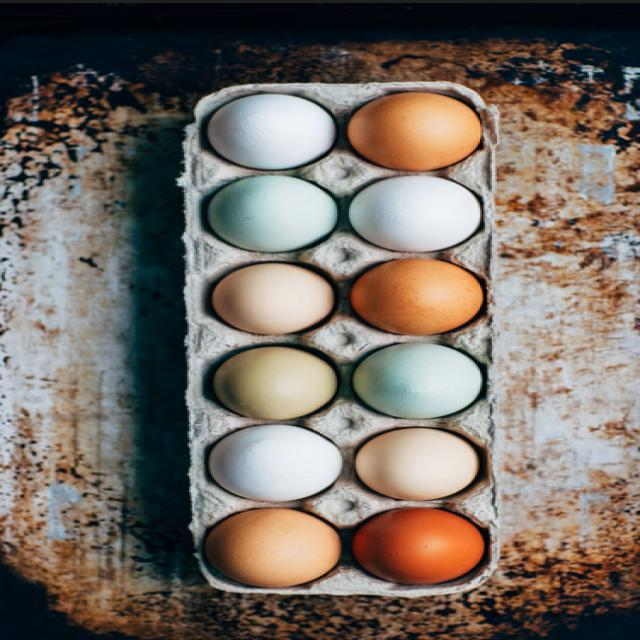eggs: (201, 509, 344, 591), (347, 258, 487, 337), (349, 343, 489, 422), (352, 508, 490, 588), (347, 176, 485, 255), (206, 426, 344, 505), (203, 345, 342, 423), (352, 427, 490, 505), (347, 94, 483, 173), (204, 176, 340, 255), (208, 94, 334, 172), (208, 262, 339, 337)
